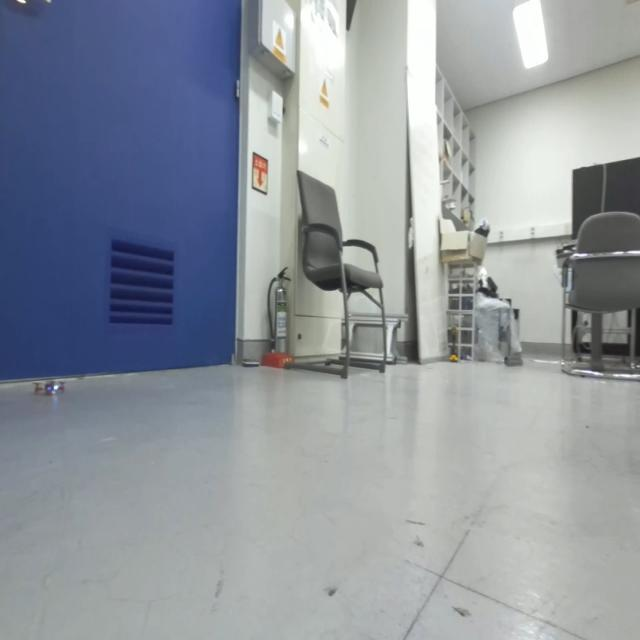crazyflie: (29, 375, 68, 403)
